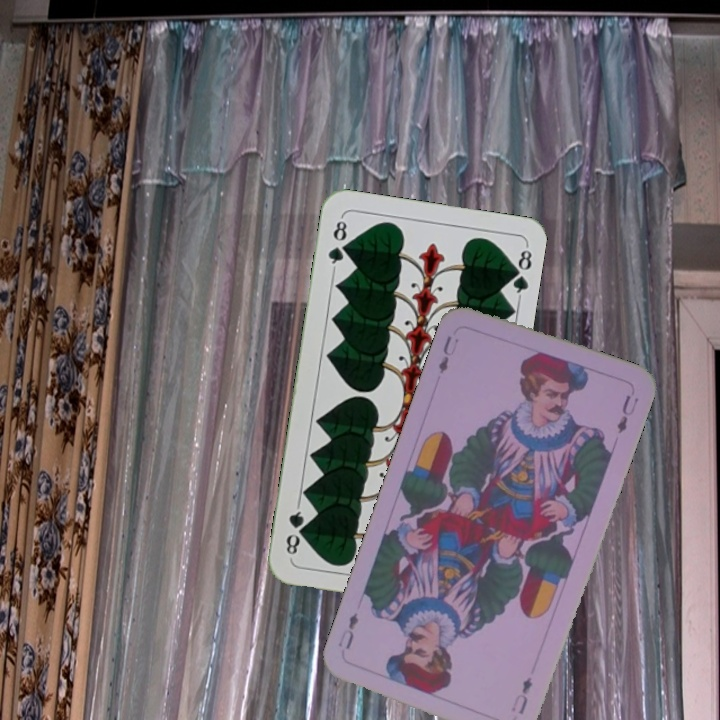EU: (507, 673, 536, 717), (434, 331, 461, 377)
G8: (324, 213, 350, 272)
